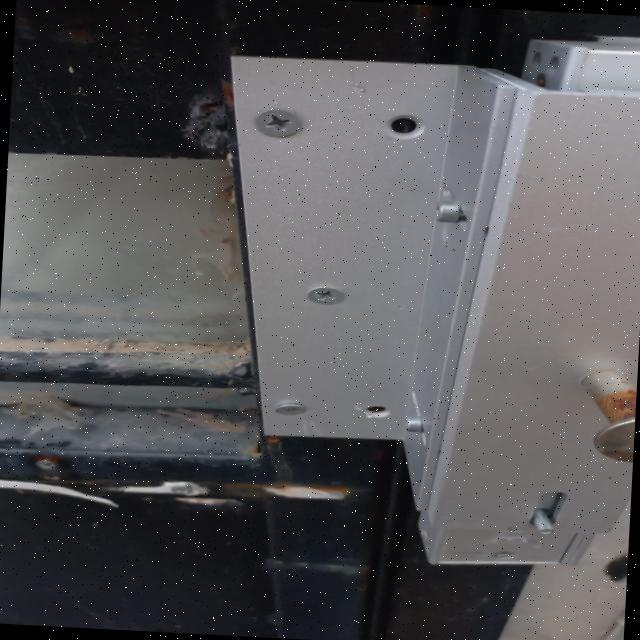Phillips: (248, 110, 307, 138), (309, 284, 346, 308)
